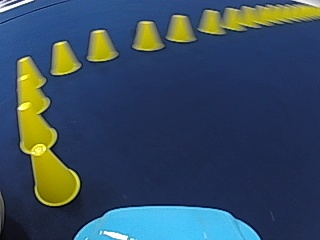cone: (28, 145, 79, 205), (14, 55, 50, 114), (15, 104, 57, 152), (49, 39, 81, 75), (85, 28, 118, 62), (131, 20, 164, 51), (165, 14, 196, 43), (197, 9, 224, 34), (222, 7, 242, 30)
